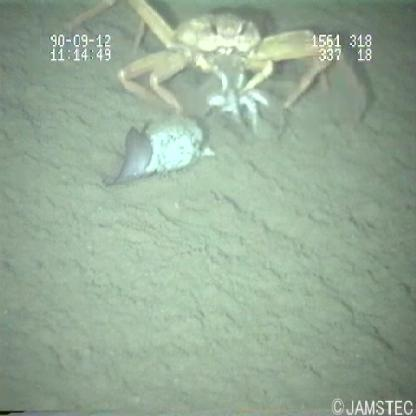Bio: (63, 1, 373, 198)
